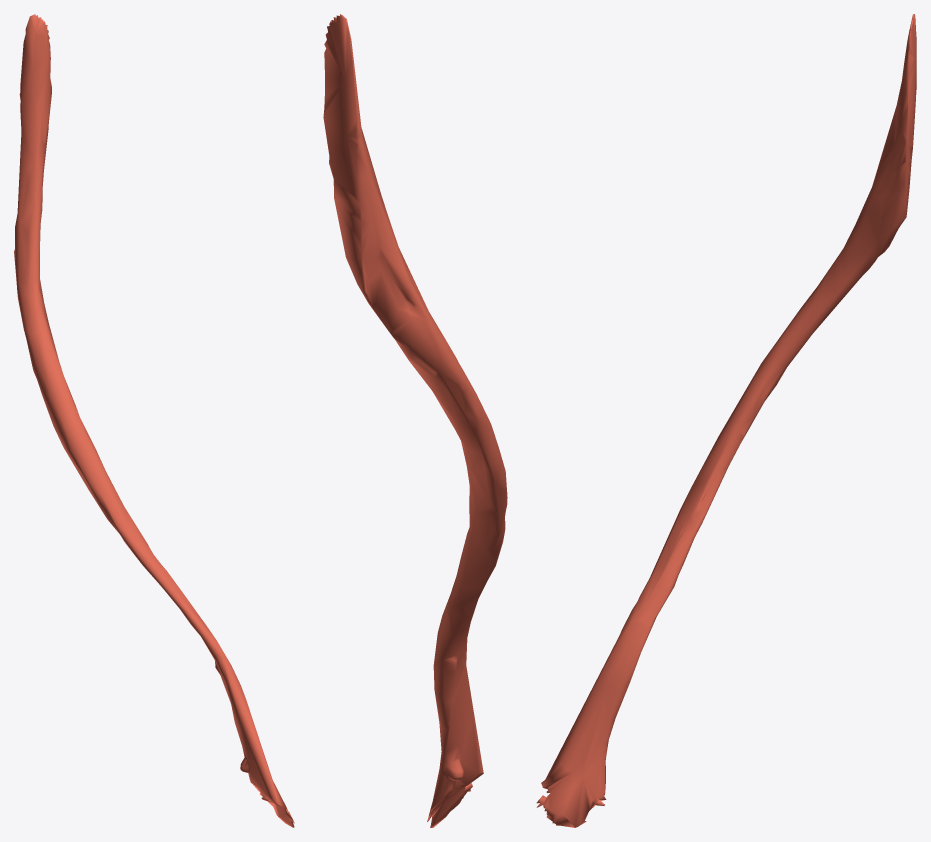
Rendered from fibularis-tertius.glb.
3 views of the same model, side by side, from view 1: azimuth 30°, elevation 25°; view 2: azimuth 150°, elevation 25°; view 3: azimuth 270°, elevation 25° (orthographic). The views are drawn at different scales.
Parts seen in each view (by area): view 1: Fibularis tertius.l; view 2: Fibularis tertius.l; view 3: Fibularis tertius.l.
Boxes of the visible parts, left/top/right/bottom form: Fibularis tertius.l: left=14, top=14, right=294, bottom=827; Fibularis tertius.l: left=323, top=14, right=507, bottom=827; Fibularis tertius.l: left=536, top=14, right=916, bottom=827.
Bounding box in the file's own units: 0.0255 × 0.1229 × 0.0553.
